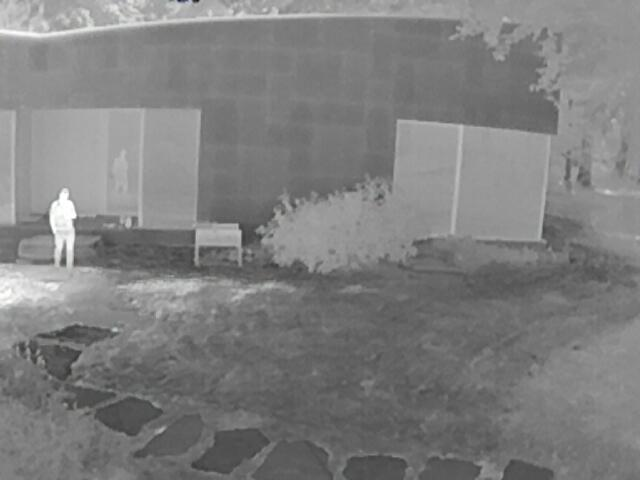person: (48, 186, 76, 270), (107, 144, 133, 202)
